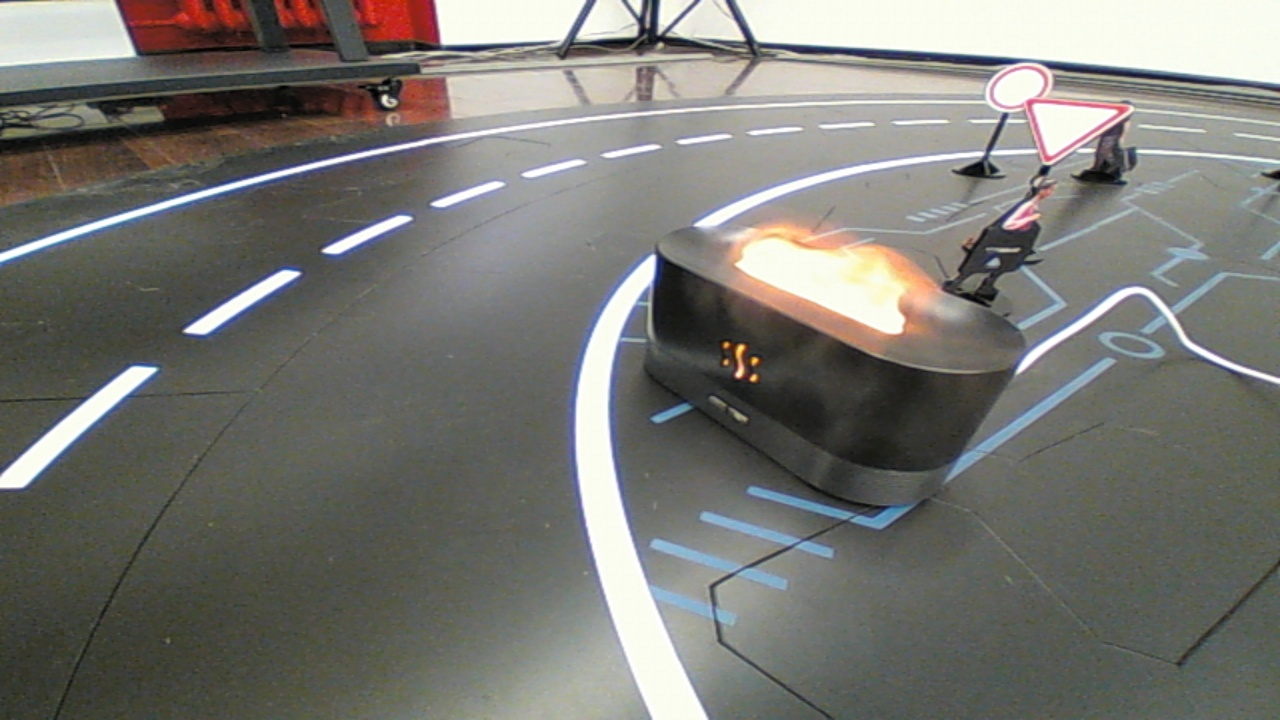Movement prohibition: (607, 195, 1050, 527)
